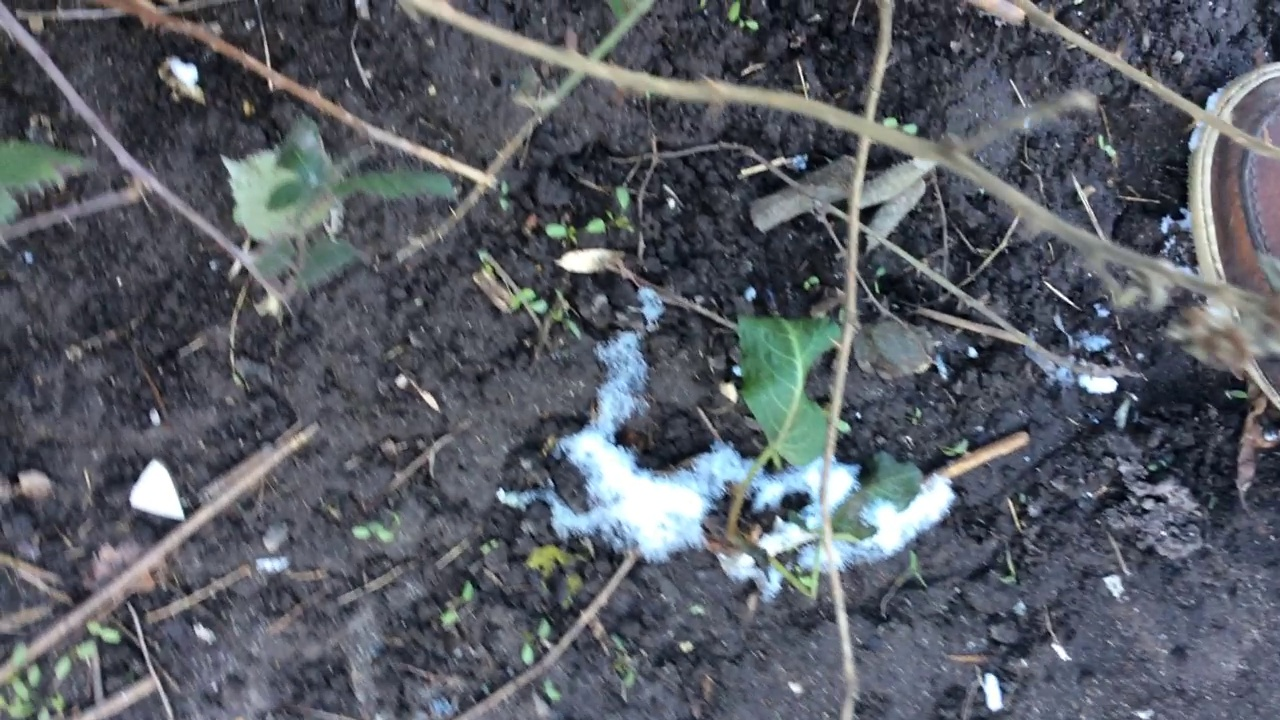root: (713, 514, 784, 574)
rumex: (710, 306, 925, 611)
